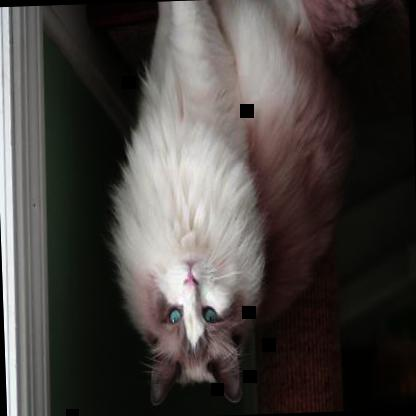cat: (107, 0, 415, 410)
